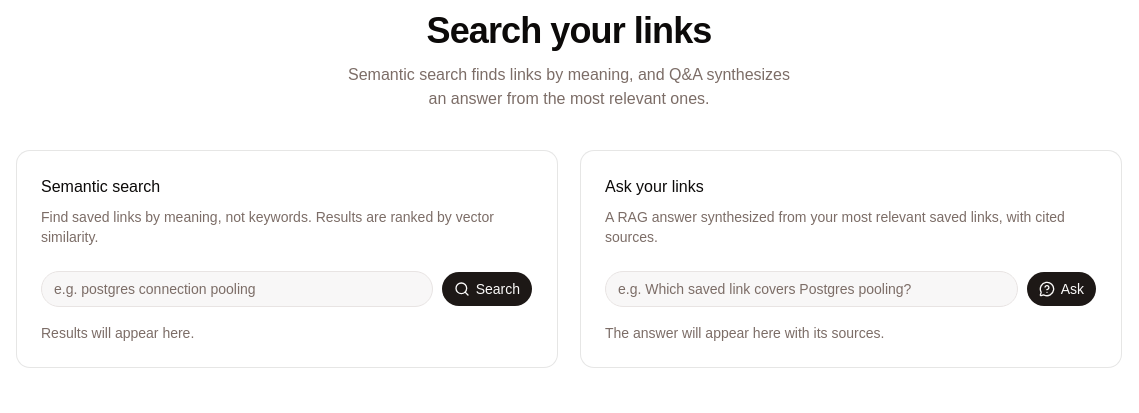
Search › validates empty input without fetching
What coordinates should you click on to do the following:
click the button "Search"
I would click on:
 (487, 289)
Its box is [441, 271, 533, 307].
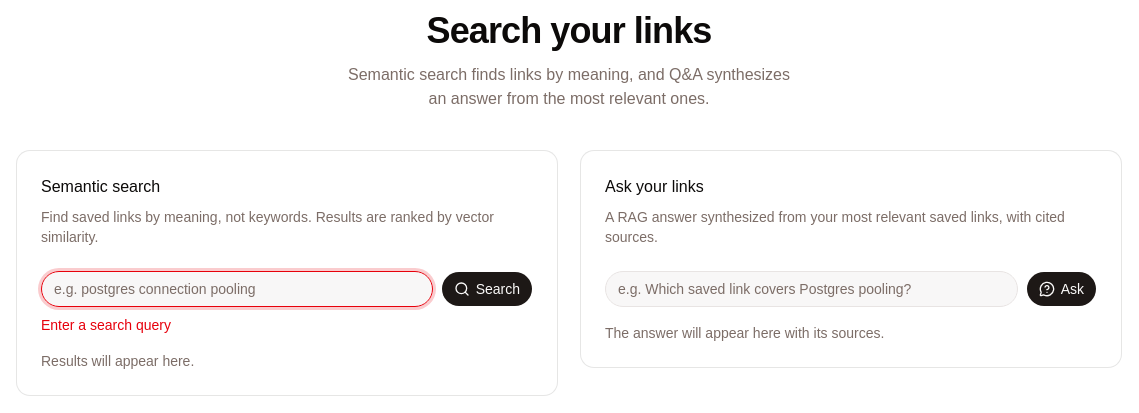
Check: the text "Enter a search query" is shown, box [41, 317, 171, 333]
What coordinates should you click on to do the following:
click the button "Ask"
I would click on:
 (1061, 289)
Its box is [1026, 271, 1097, 307].
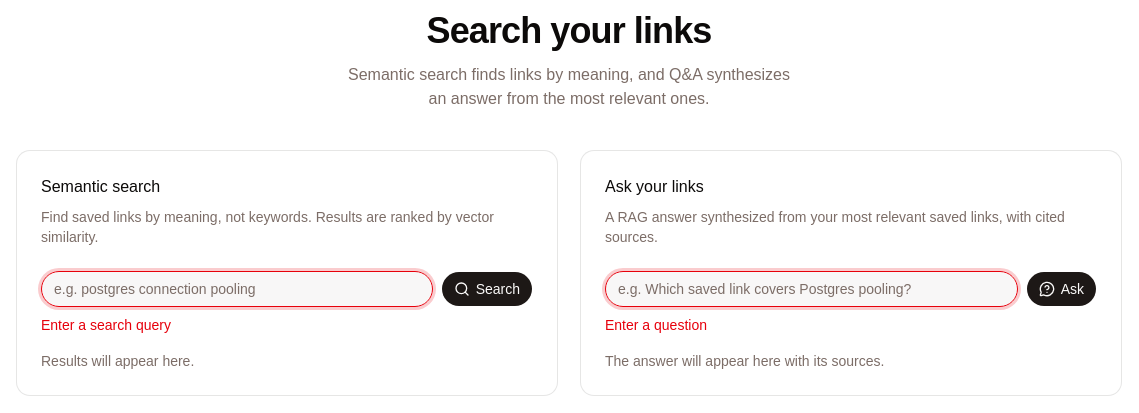
Check: the text "Enter a question" is shown, box [605, 317, 707, 333]
